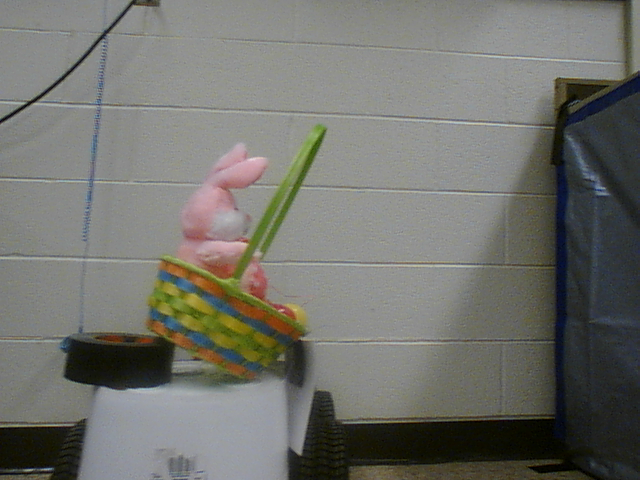bunny: (133, 111, 334, 386)
